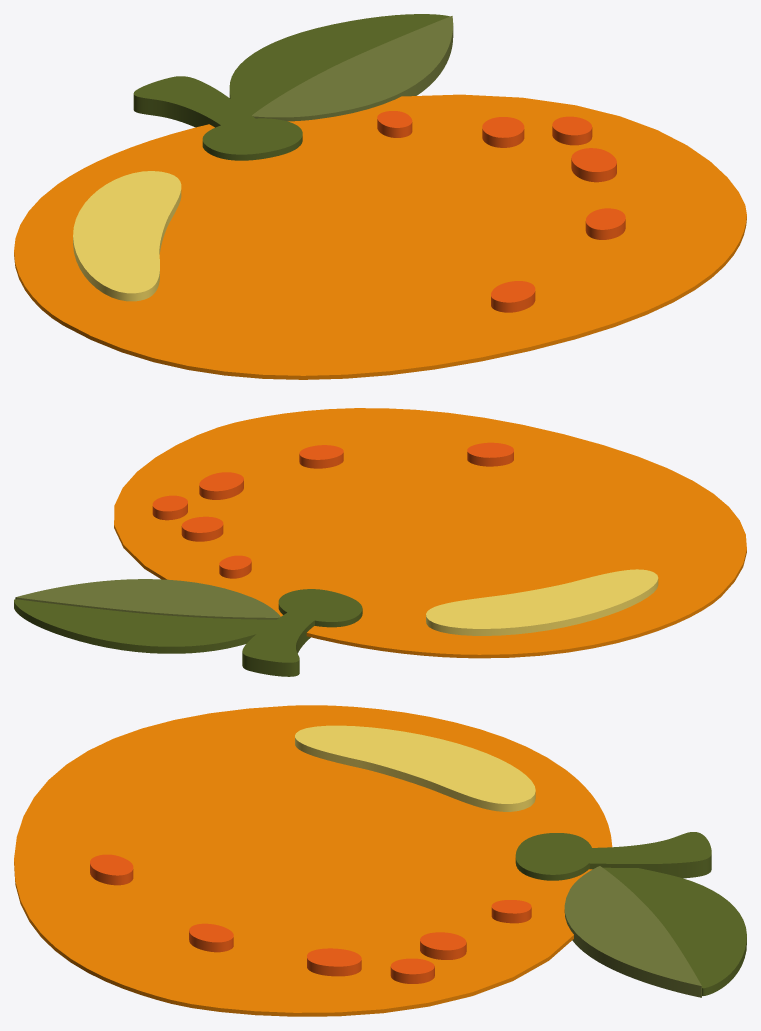
The model's file is emoji_u1f34a.glb.
The picture shows the model from 3 angles, top to bottom: view 1: azimuth 30°, elevation 25°; view 2: azimuth 150°, elevation 25°; view 3: azimuth 270°, elevation 25°; orthographic projection. The views are drawn at different scales.
Parts seen in each view (by area): view 1: emoji_u1f34a; view 2: emoji_u1f34a; view 3: emoji_u1f34a.
Part boxes in pixels (box(x1,y1,x2,y2)): emoji_u1f34a: box(14, 14, 746, 379); emoji_u1f34a: box(14, 408, 746, 676); emoji_u1f34a: box(14, 705, 746, 1016).
Size of the model in its own units: 0.0336 by 0.0012 by 0.0339.
